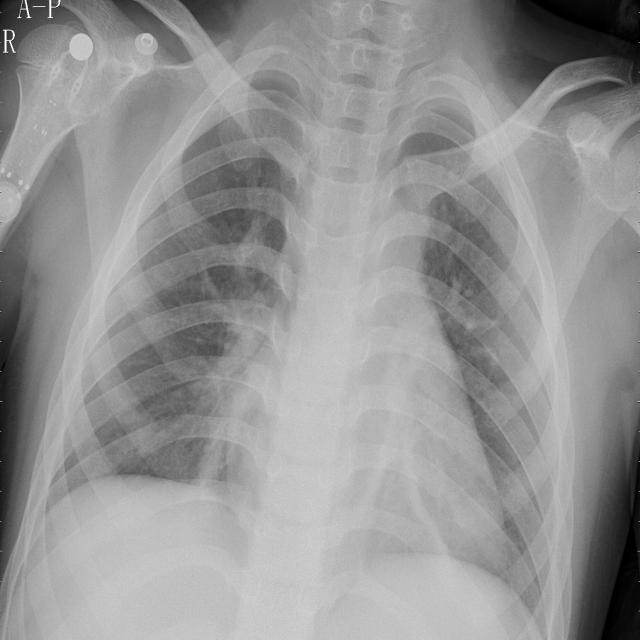low-pneumonia: (195, 282, 270, 483)
